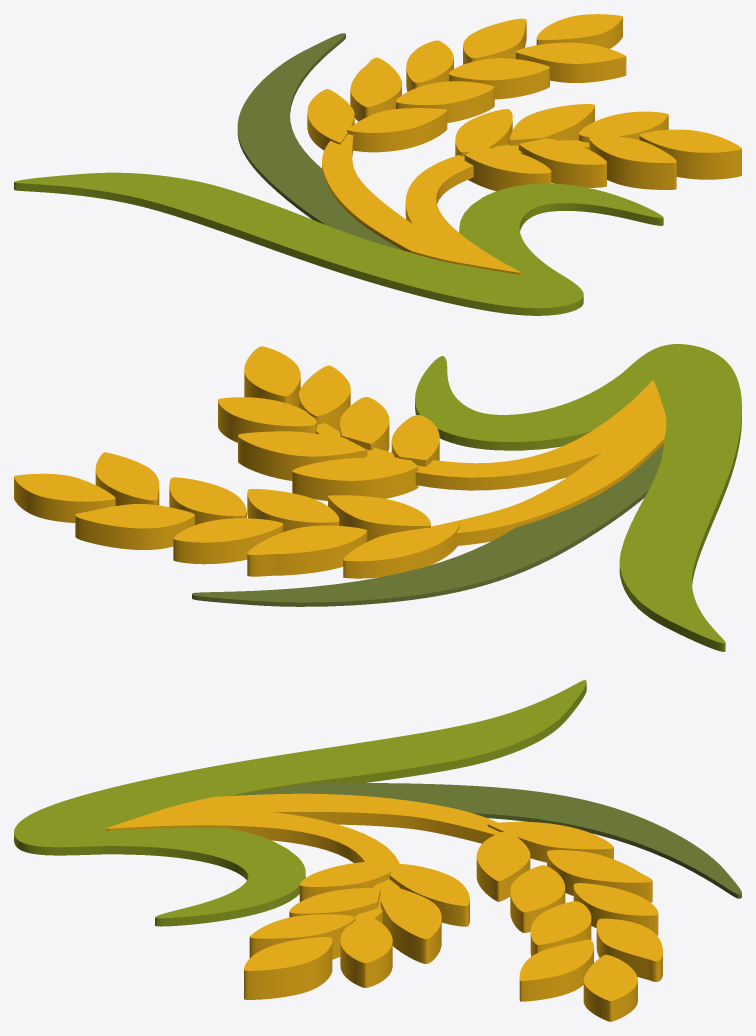
Rendered from emoji_u1f33e.glb.
The picture shows the model from 3 angles, top to bottom: view 1: azimuth 30°, elevation 25°; view 2: azimuth 150°, elevation 25°; view 3: azimuth 270°, elevation 25°; orthographic projection. The views are drawn at different scales.
Parts seen in each view (by area): view 1: emoji_u1f33e; view 2: emoji_u1f33e; view 3: emoji_u1f33e.
Boxes of the visible parts, <box> form: emoji_u1f33e: <box>14,14,741,315</box>; emoji_u1f33e: <box>14,344,741,651</box>; emoji_u1f33e: <box>14,680,741,1021</box>.
Size of the model in its own units: 0.0338 by 0.0014 by 0.0318.
